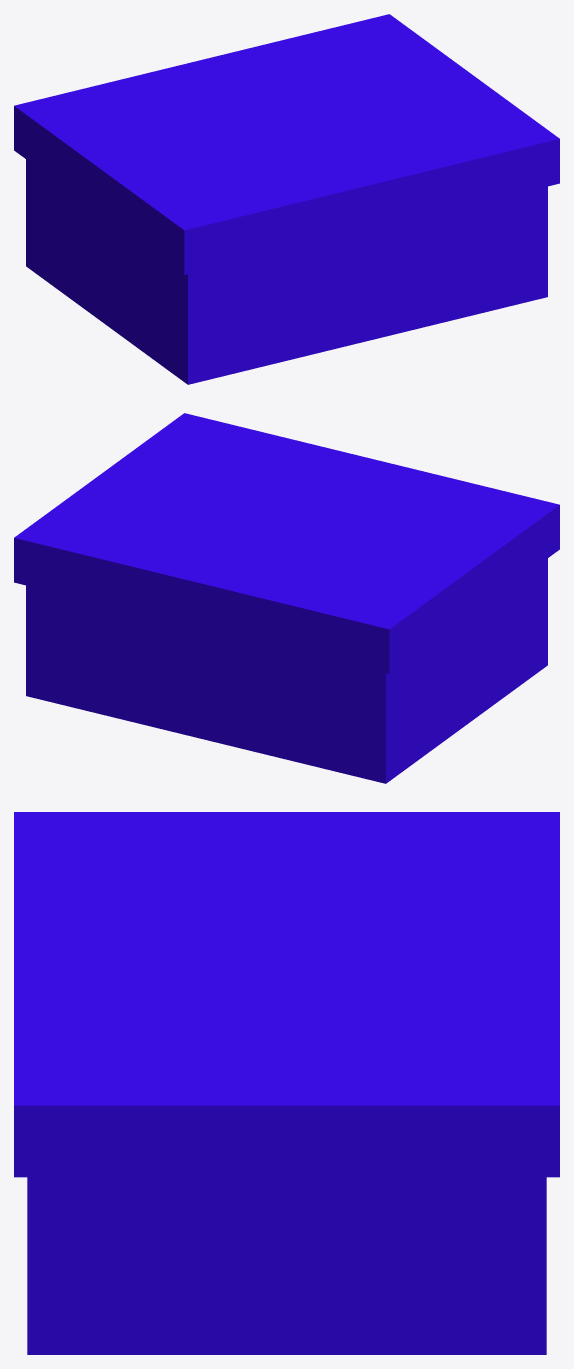
The model's file is office_pack_archiveCardboardBox_small_1_meshCollider.fbx.
3 views of the same model, one above another, from view 1: azimuth 30°, elevation 25°; view 2: azimuth 150°, elevation 25°; view 3: azimuth 270°, elevation 25° (orthographic). The views are drawn at different scales.
Visible parts, largest first — view 1: office_pack_archiveCardboardBox_small_1_lid_1_meshCollider, office_pack_archiveCardboardBox_small_1_meshCollider; view 2: office_pack_archiveCardboardBox_small_1_lid_1_meshCollider, office_pack_archiveCardboardBox_small_1_meshCollider; view 3: office_pack_archiveCardboardBox_small_1_lid_1_meshCollider, office_pack_archiveCardboardBox_small_1_meshCollider.
Part boxes in pixels (bbox=[...]): office_pack_archiveCardboardBox_small_1_lid_1_meshCollider: bbox=[14, 14, 559, 274]; office_pack_archiveCardboardBox_small_1_meshCollider: bbox=[26, 159, 547, 384]; office_pack_archiveCardboardBox_small_1_lid_1_meshCollider: bbox=[14, 413, 559, 673]; office_pack_archiveCardboardBox_small_1_meshCollider: bbox=[26, 558, 547, 783]; office_pack_archiveCardboardBox_small_1_lid_1_meshCollider: bbox=[14, 812, 559, 1177]; office_pack_archiveCardboardBox_small_1_meshCollider: bbox=[27, 1177, 546, 1354].
Bounding box in the file's own units: 26.07 × 10.57 × 20.49.
